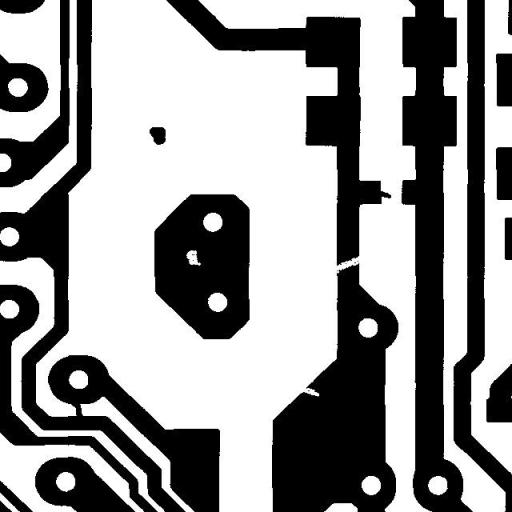copper: (142, 119, 172, 152)
mousebite: (292, 379, 326, 404)
open: (322, 245, 378, 281)
pin-hole: (178, 242, 208, 273)
short: (64, 393, 90, 428)
spur: (368, 183, 398, 206)
